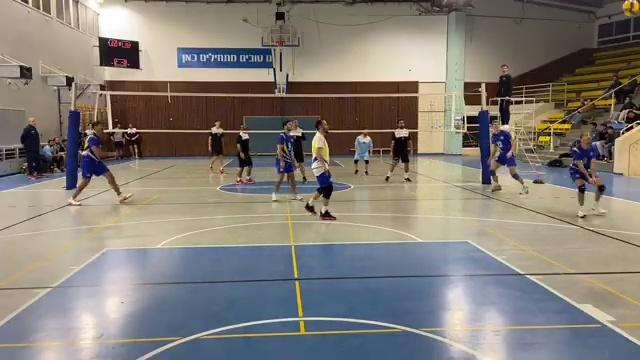ball: (621, 1, 640, 19)
